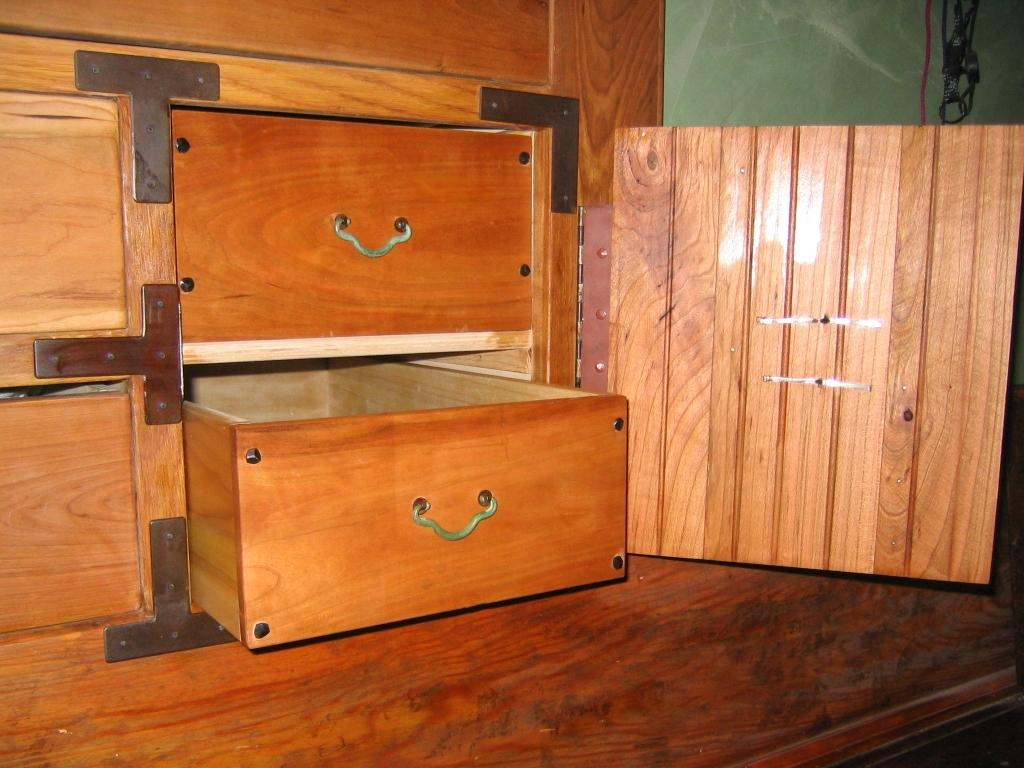cabinet_door: (611, 132, 985, 563), (186, 116, 536, 330), (244, 434, 630, 586), (10, 407, 144, 616), (12, 104, 127, 330)
handle: (328, 195, 425, 269), (399, 488, 508, 542)
